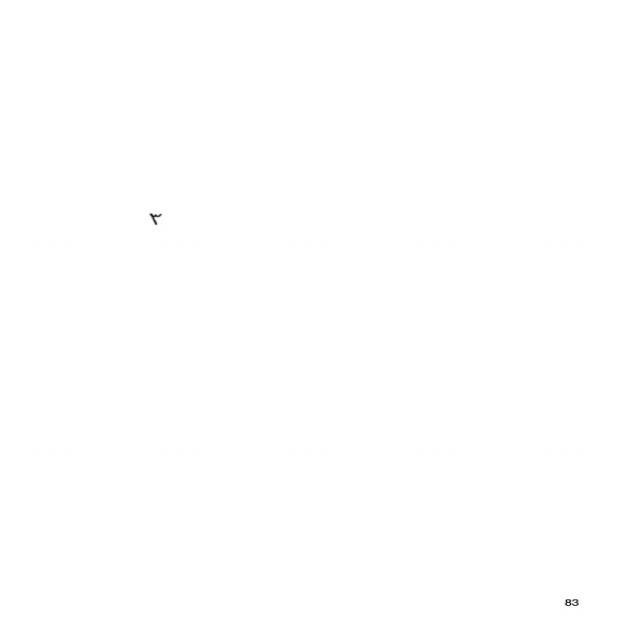3 -three-: (143, 208, 170, 232)
